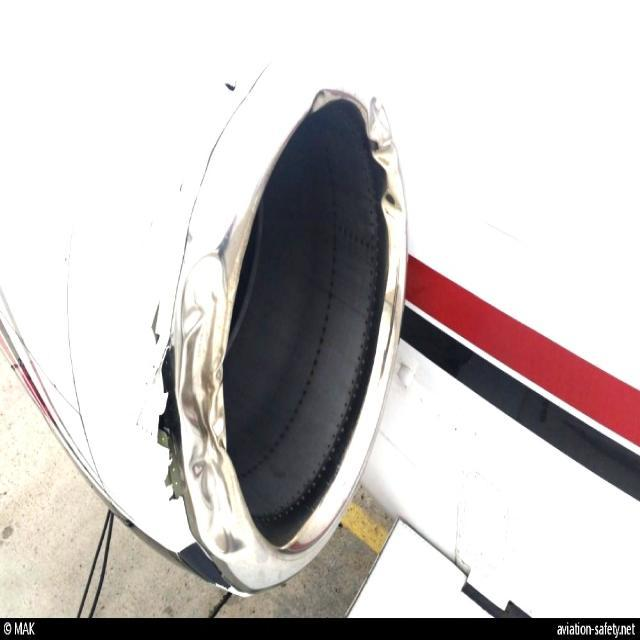dent: (182, 253, 249, 558), (366, 97, 405, 223)
